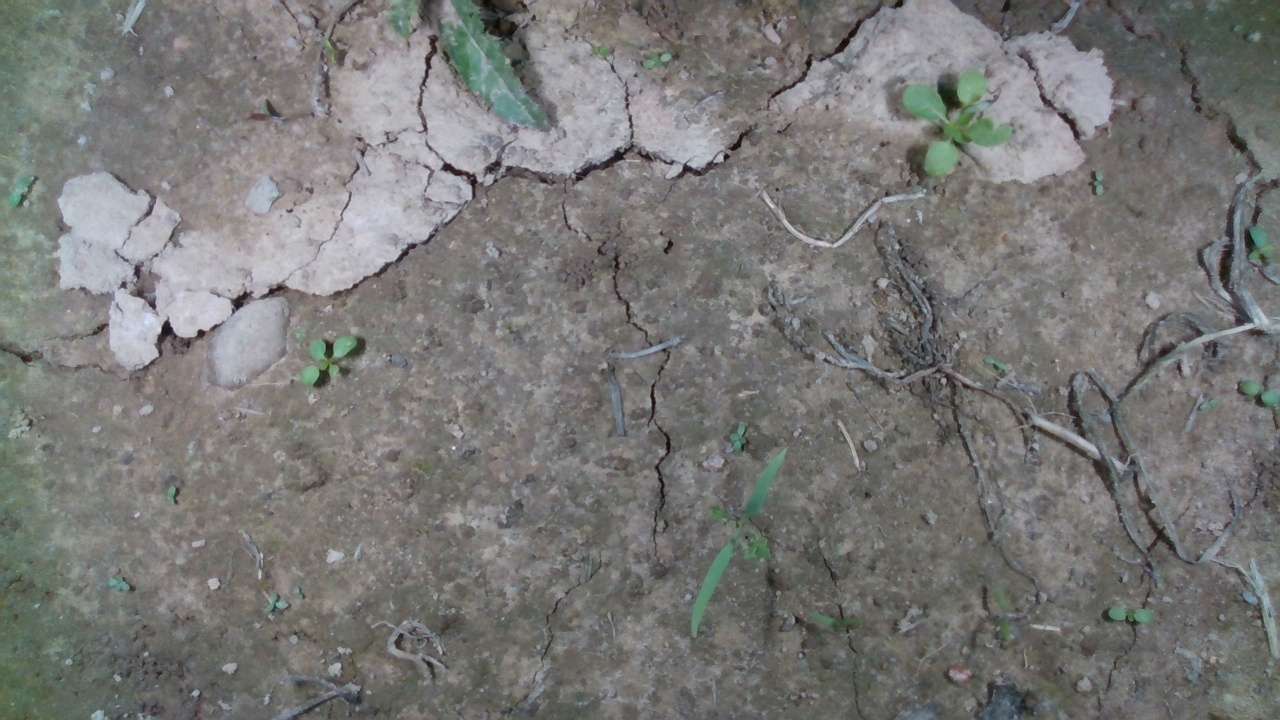weed: (297, 334, 371, 387), (1108, 593, 1157, 630), (1235, 372, 1276, 413), (638, 44, 671, 76), (1086, 164, 1114, 200), (728, 416, 746, 454)
